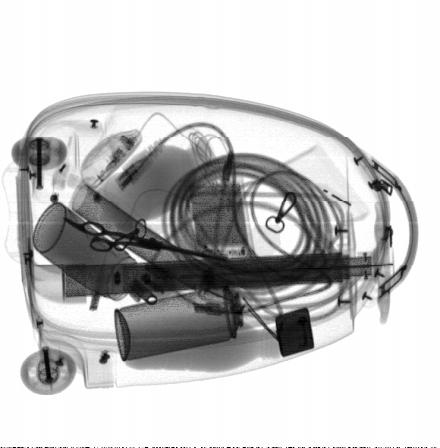Lighter: (274, 307, 314, 356)
Powerbank: (188, 173, 257, 266)
Scissors: (64, 217, 227, 263)
Sprayer: (114, 281, 271, 361)
